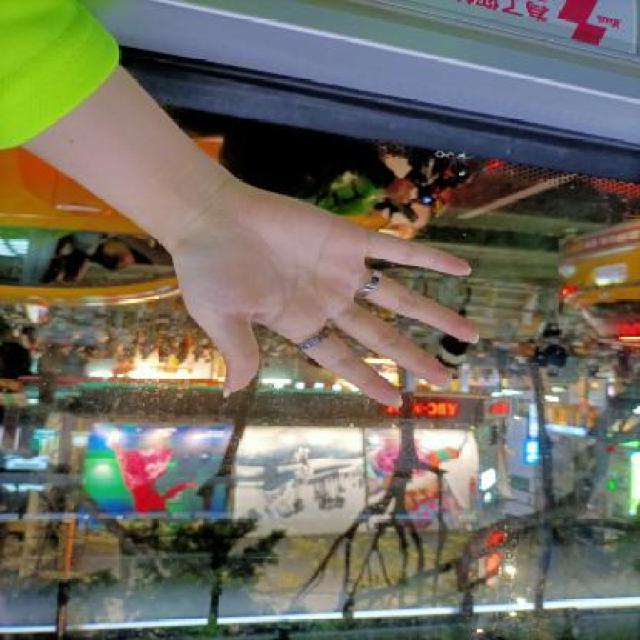bare_hand: (157, 177, 496, 412)
